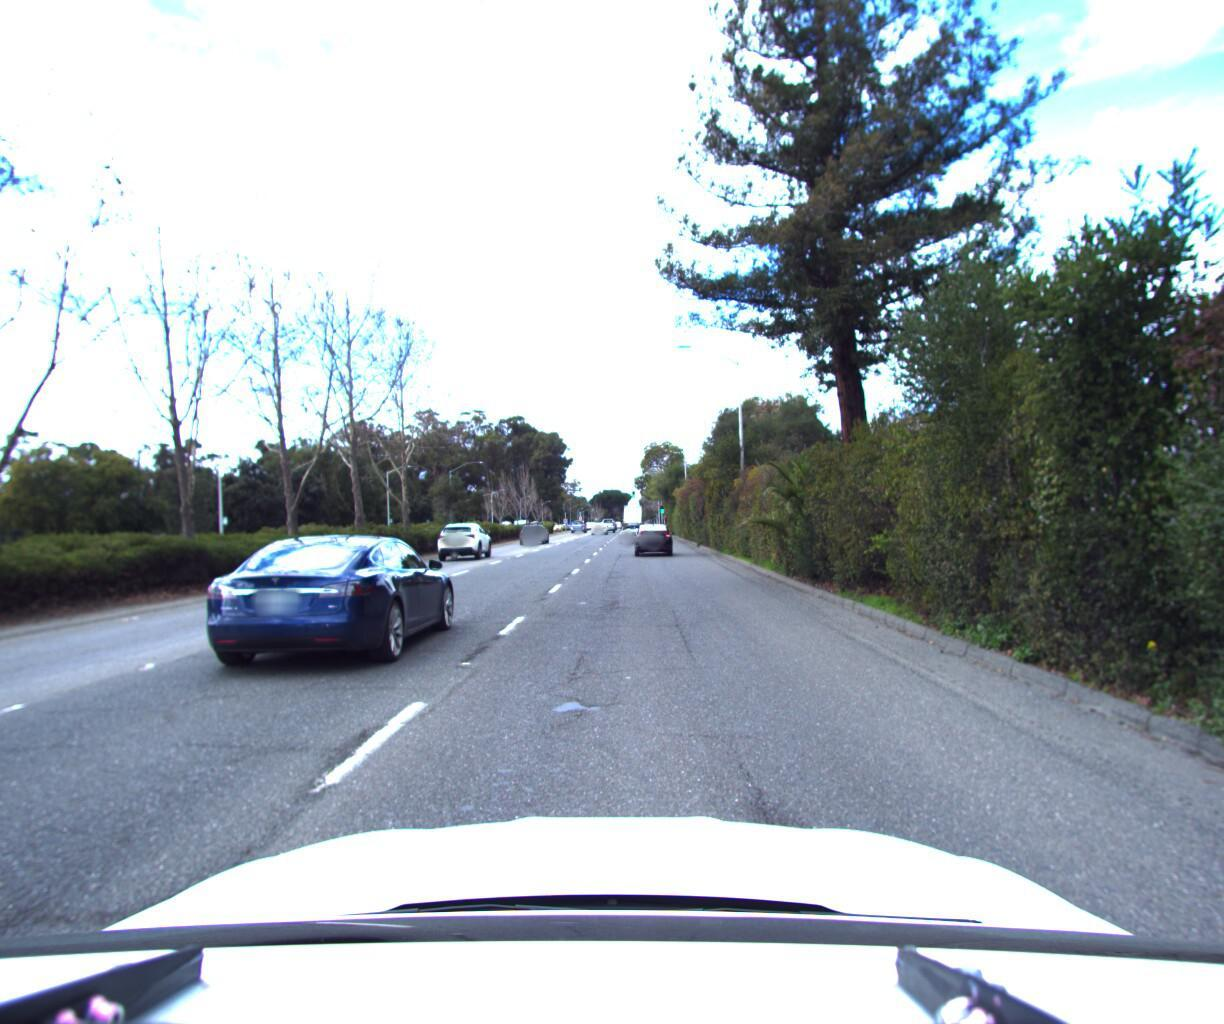car: (183, 532, 468, 687), (437, 518, 500, 562), (632, 521, 676, 558), (517, 520, 551, 546), (611, 520, 642, 547)
